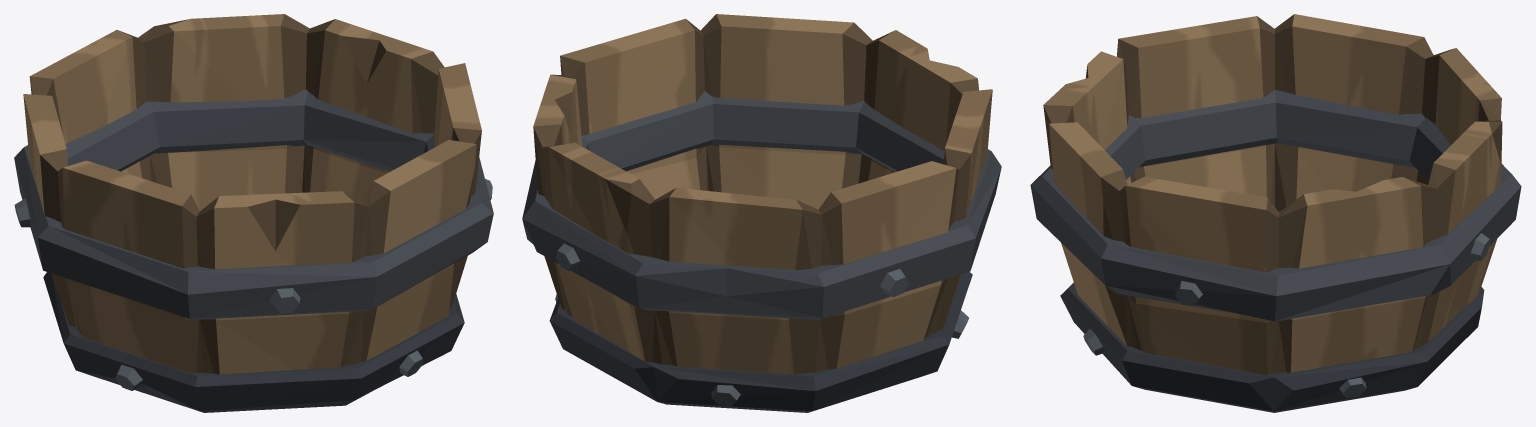
Rendered from SM_Prop_Barrel_Half_01.fbx.
The picture shows the model from 3 angles, left to right: view 1: azimuth 30°, elevation 25°; view 2: azimuth 150°, elevation 25°; view 3: azimuth 270°, elevation 25°; orthographic projection.
Parts seen in each view (by area): view 1: SM_Prop_Barrel_Half_01; view 2: SM_Prop_Barrel_Half_01; view 3: SM_Prop_Barrel_Half_01.
Boxes of the visible parts, box(x1,y1,x2,y2) form: SM_Prop_Barrel_Half_01: box(14, 14, 493, 412); SM_Prop_Barrel_Half_01: box(522, 14, 1001, 412); SM_Prop_Barrel_Half_01: box(1030, 14, 1521, 412).
Size of the model in its own units: 104 by 52.39 by 103.
